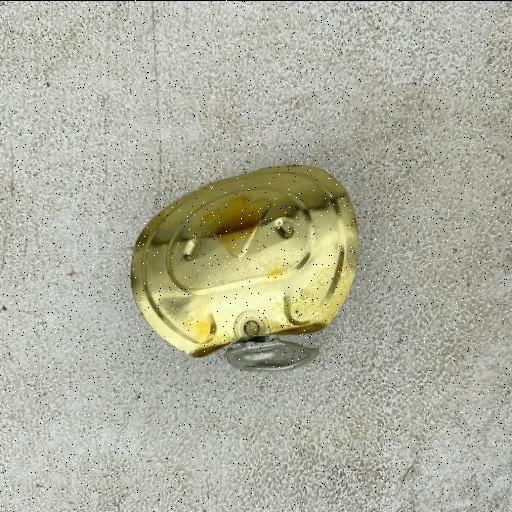Metal: (128, 162, 360, 373)
